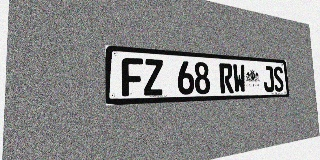6: (177, 61, 195, 95)
8: (194, 62, 210, 94)
F: (121, 57, 143, 96)
J: (263, 66, 274, 92)
R: (219, 63, 234, 93)
S: (273, 66, 284, 92)
W: (232, 64, 246, 93)
Z: (143, 59, 164, 96)
